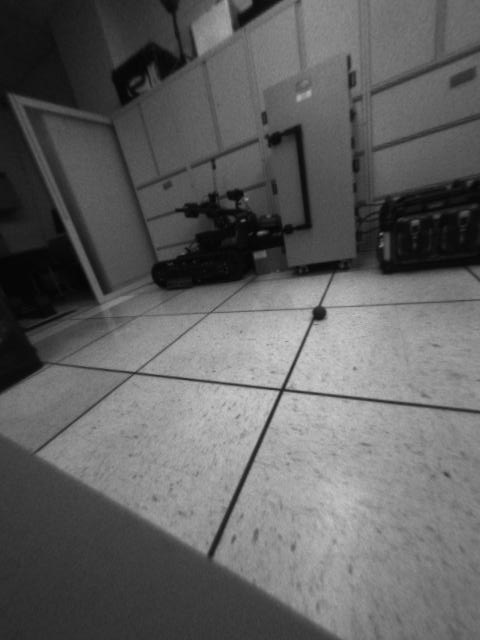dogtoy: (306, 300, 335, 325)
